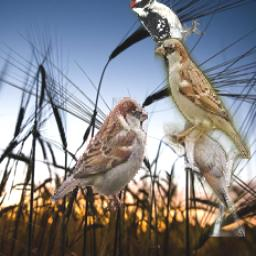Cuckoo: (185, 115, 246, 237)
Sparrow: (156, 38, 252, 159), (51, 98, 149, 211)
Woodpecker: (130, 0, 206, 73)
